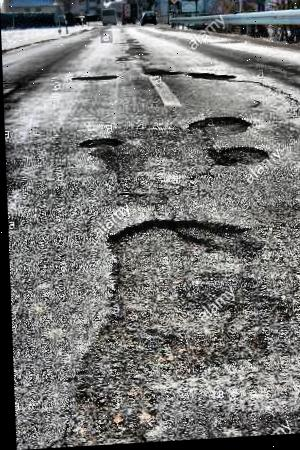pothole: (100, 212, 293, 387), (205, 144, 269, 172), (185, 115, 251, 139), (183, 71, 236, 86), (75, 138, 120, 150), (69, 73, 117, 82), (142, 69, 179, 79), (135, 50, 148, 59)
